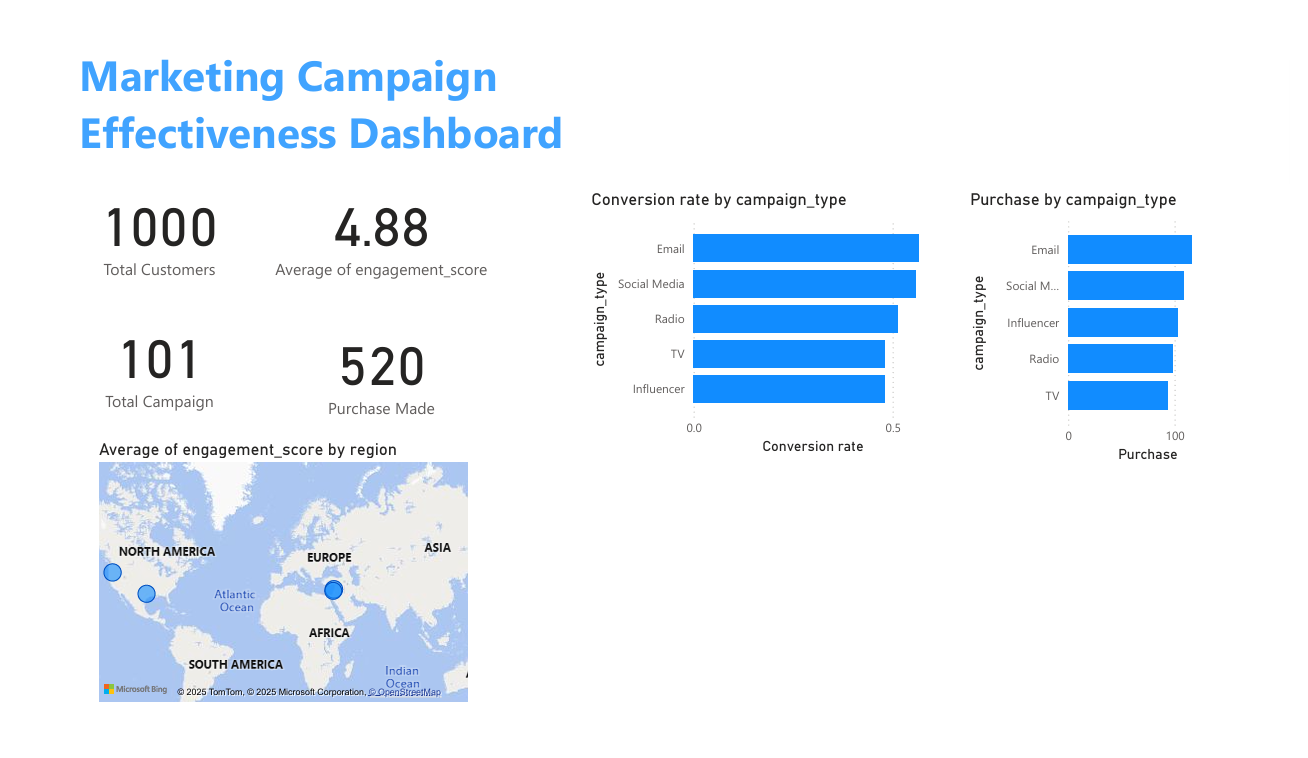

Layout of this report page (visuals, bound fields, positions):
{"tool":"powerbi","page":{"name":"Page 1","canvas":[1280,720],"ordinal":0},"visuals":[{"type":"card","fields":{"Values":["Count(marketing_campaign_data.customer_id)"]},"box":[0,140.1,280.1,140.1],"z":0},{"type":"card","fields":{"Values":["Count(marketing_campaign_data.campaign_id)"]},"box":[0,273.3,280.1,140.1],"z":1000},{"type":"card","fields":{"Values":["Avg(marketing_campaign_data.engagement_score)"]},"box":[223.7,140.1,280.1,140.1],"z":2000},{"type":"card","fields":{"Values":["Sum(marketing_campaign_data.purchase_made)"]},"box":[223.7,280.1,280.1,140.1],"z":3000},{"type":"clusteredBarChart","fields":{"Category":["marketing_campaign_data.campaign_type"],"Y":["Sum(marketing_campaign_data.purchase_made)"]},"box":[953.2,168.3,280.1,280.1],"z":4000},{"type":"map","fields":{"Category":["marketing_campaign_data.region"],"Size":["Avg(marketing_campaign_data.engagement_score)"]},"box":[73.9,420.2,382.2,271.4],"z":5000},{"type":"clusteredBarChart","fields":{"Category":["marketing_campaign_data.campaign_type"],"Y":["marketing_campaign_data.Conversion rate"]},"box":[570.9,168.3,361.8,271.4],"z":6000},{"type":"textbox","box":[54.5,18.5,541.8,149.8],"z":7000}]}

Visuals, with their boxes in screenshot pixels (x1, y1, x2, y2), scaled from the page's 1280x720 canvas onto the 1308x758 screenshot:
card - Count(marketing_campaign_data.customer_id): Rect(0, 147, 286, 295)
card - Count(marketing_campaign_data.campaign_id): Rect(0, 288, 286, 435)
card - Avg(marketing_campaign_data.engagement_score): Rect(229, 147, 515, 295)
card - Sum(marketing_campaign_data.purchase_made): Rect(229, 295, 515, 442)
clusteredBarChart - marketing_campaign_data.campaign_type x Sum(marketing_campaign_data.purchase_made): Rect(974, 177, 1260, 472)
map - marketing_campaign_data.region x Avg(marketing_campaign_data.engagement_score): Rect(76, 442, 466, 728)
clusteredBarChart - marketing_campaign_data.campaign_type x marketing_campaign_data.Conversion rate: Rect(583, 177, 953, 463)
textbox: Rect(56, 19, 609, 177)
